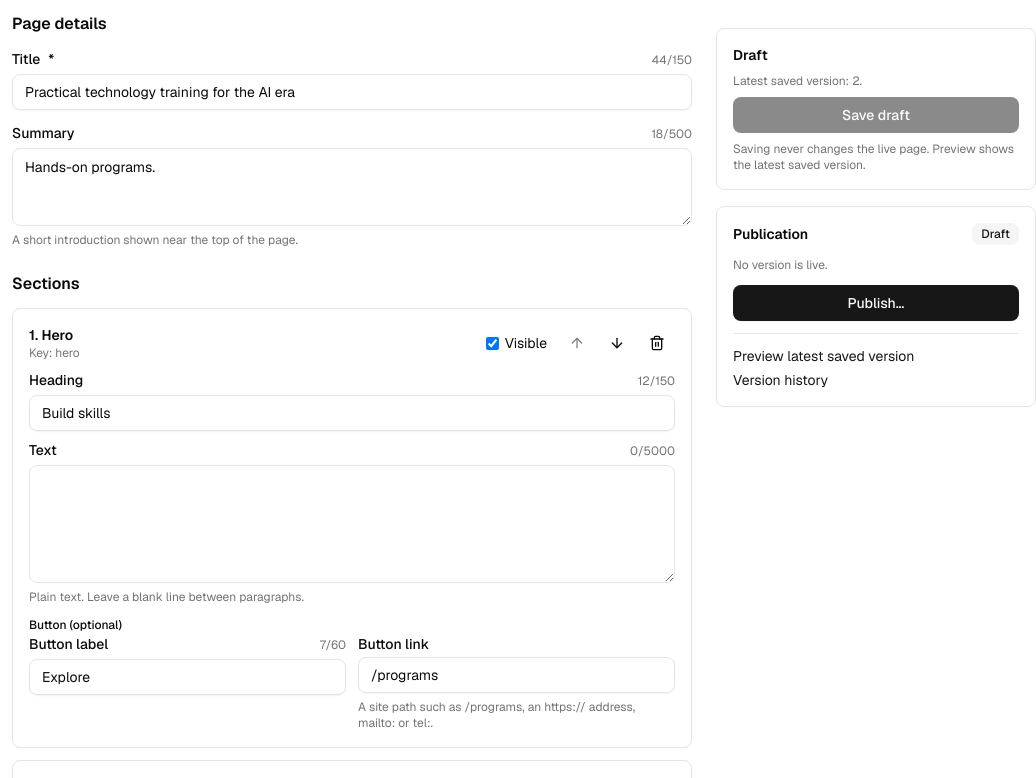
Test: PublicationPanel (within the editor) › publishes the latest saved version after confirmation
Click the button "Publish…".
click(876, 303)  # box [733,285,1019,321]
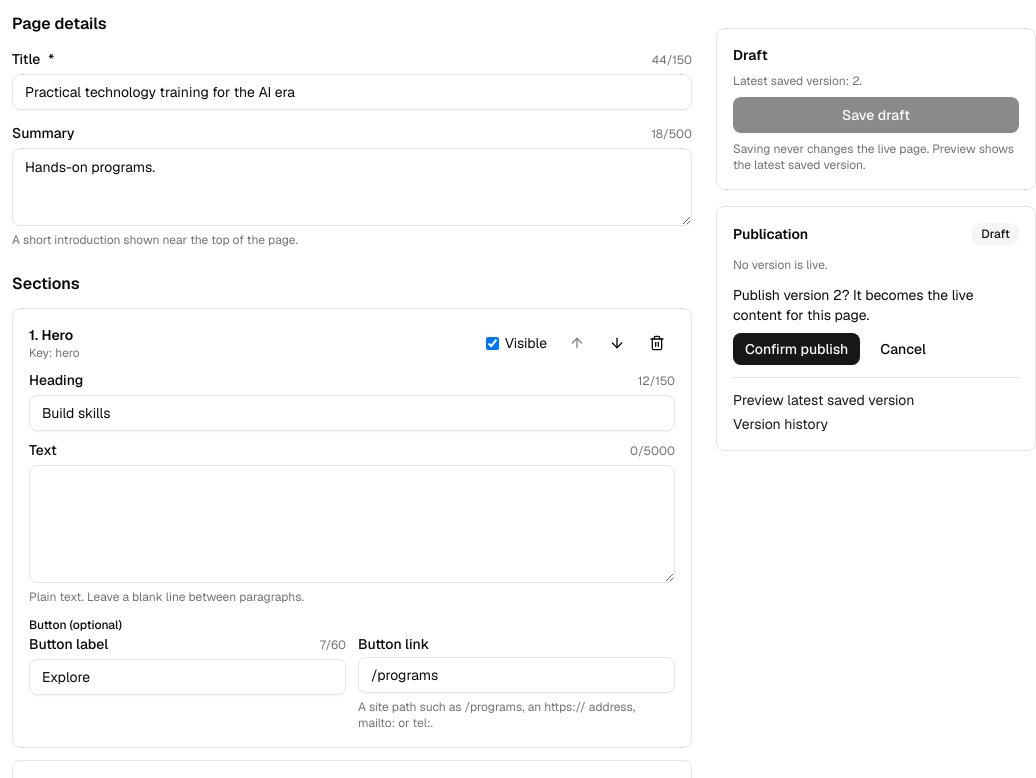
Expected: the text "Publish version 2?" is shown, [733,286,974,324]
Click the button "Confirm publish".
click(797, 349)  # box [733,333,860,365]
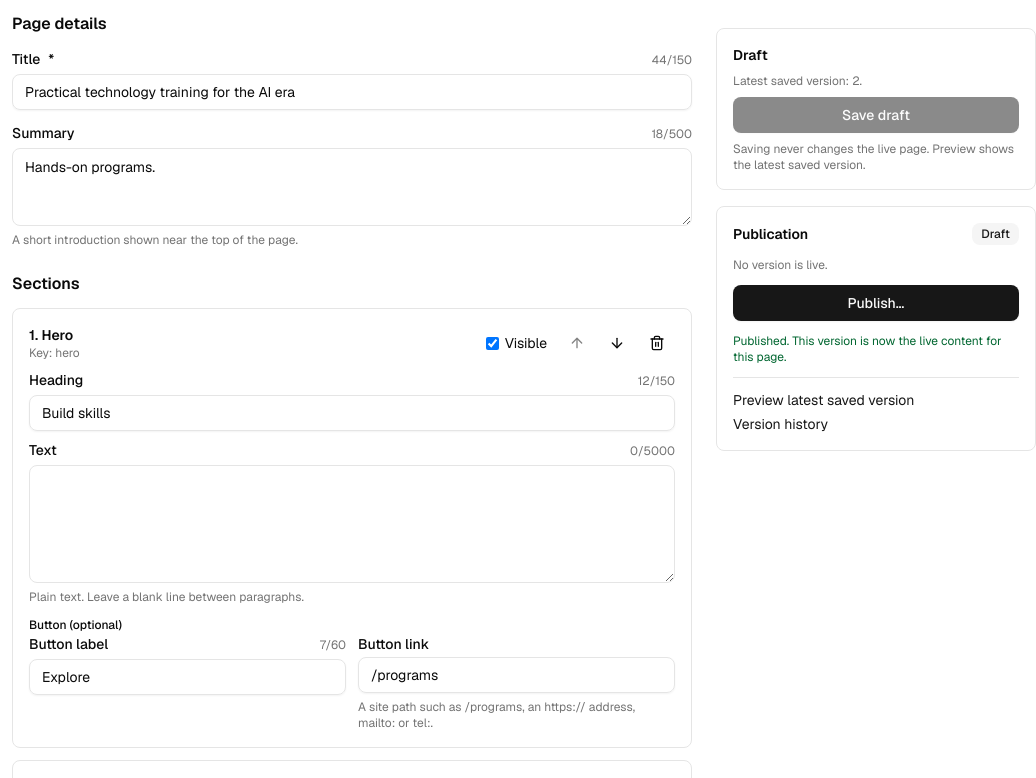
Expected: the text "Published. This version is now the live content for this page." is shown, [733,333,1019,365]
